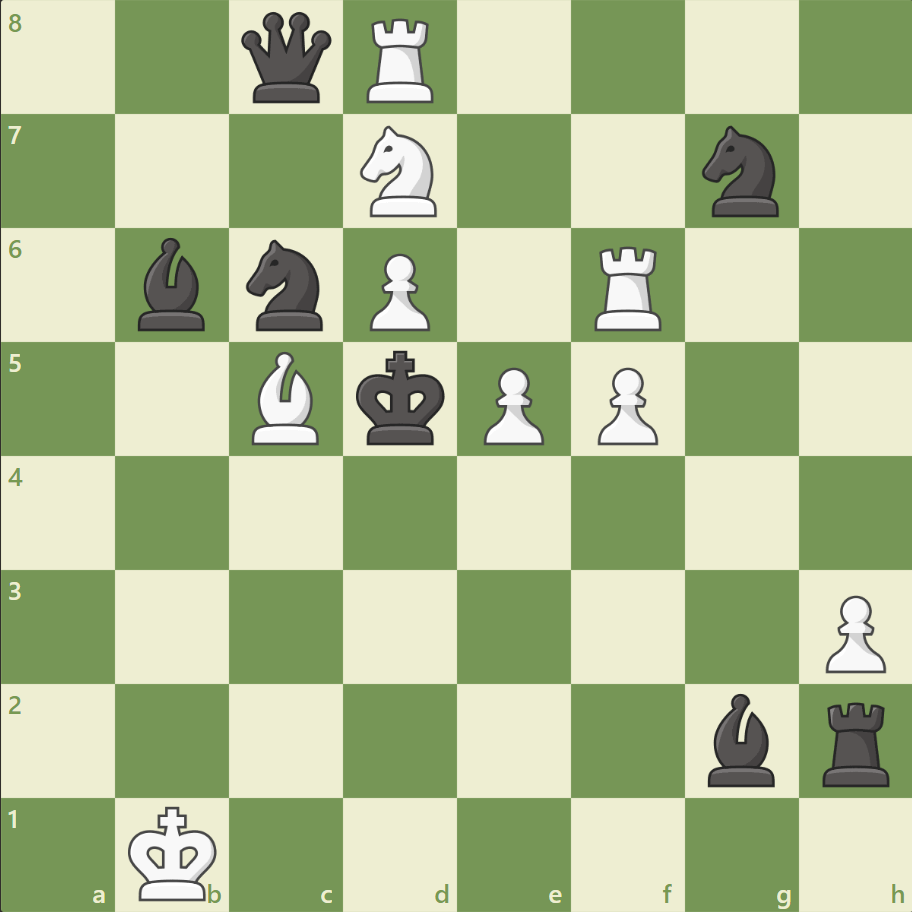B: (244, 347, 328, 449)
K: (124, 798, 224, 906)
N: (351, 121, 449, 223)
P: (474, 359, 549, 450), (361, 246, 435, 337), (588, 359, 662, 450), (815, 586, 889, 677)
R: (587, 239, 670, 336), (360, 12, 442, 109)
b: (131, 233, 215, 336), (698, 687, 782, 790)
k: (351, 344, 451, 452)
n: (238, 234, 335, 337), (692, 121, 789, 223)
q: (237, 9, 336, 108)
r: (814, 693, 897, 790)
